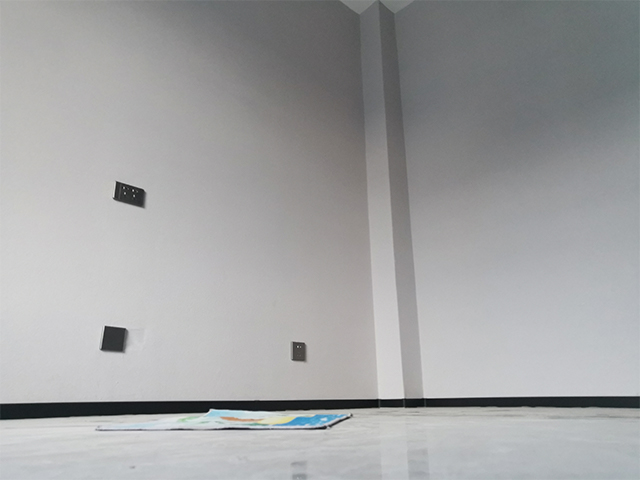carpet: (91, 407, 356, 432)
